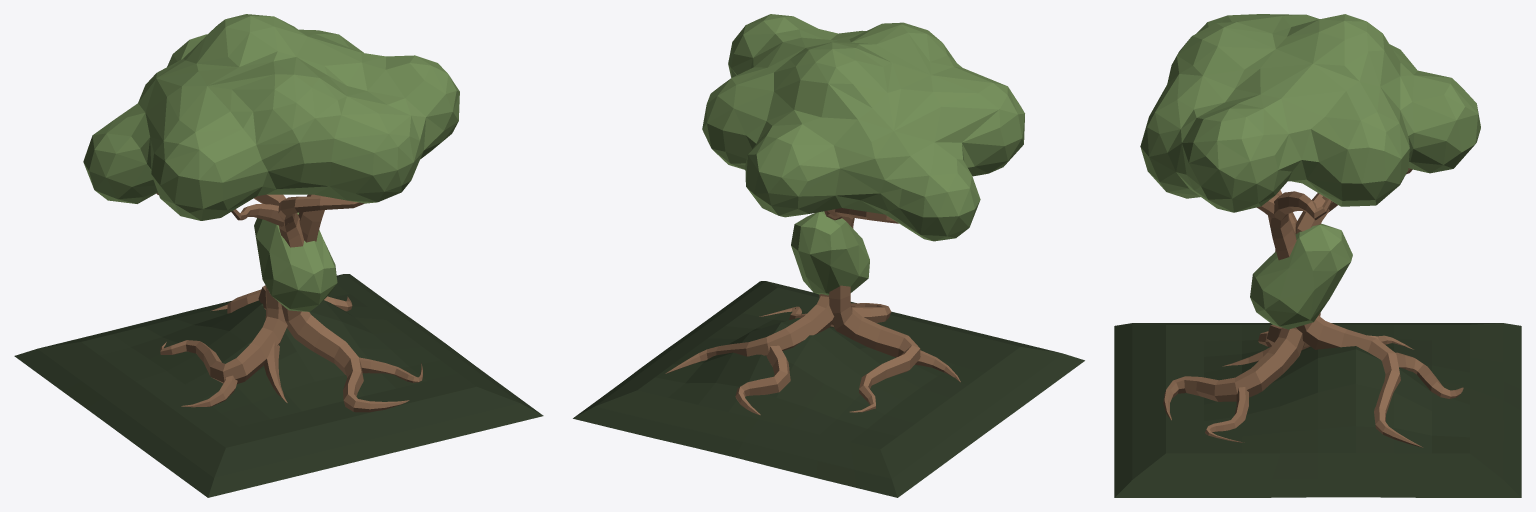
Rendered from leafy_tree.fbx.
3 renders of one model, left to right at view 1: azimuth 30°, elevation 25°; view 2: azimuth 150°, elevation 25°; view 3: azimuth 270°, elevation 25°, orthographic. The views are drawn at different scales.
Parts seen in each view (by area): view 1: Mball.014, Plane, NurbsPath.002, NurbsPath.001, NurbsPath; view 2: Mball.014, Plane, NurbsPath.001, NurbsPath, NurbsPath.002; view 3: Plane, Mball.014, NurbsPath, NurbsPath.002, NurbsPath.001.
Part boxes in pixels (left/top/right/bottom): Mball.014: left=83, top=14, right=459, bottom=311; Plane: left=14, top=274, right=543, bottom=497; NurbsPath.002: left=231, top=196, right=422, bottom=412; NurbsPath.001: left=156, top=193, right=287, bottom=407; NurbsPath: left=211, top=194, right=352, bottom=313; Mball.014: left=702, top=14, right=1024, bottom=295; Plane: left=573, top=281, right=1084, bottom=497; NurbsPath.001: left=824, top=208, right=960, bottom=412; NurbsPath: left=665, top=294, right=834, bottom=415; NurbsPath.002: left=759, top=216, right=891, bottom=326; Plane: left=1114, top=323, right=1521, bottom=497; Mball.014: left=1140, top=14, right=1480, bottom=329; NurbsPath: left=1257, top=191, right=1463, bottom=447; NurbsPath.002: left=1163, top=190, right=1304, bottom=442; NurbsPath.001: left=1222, top=168, right=1413, bottom=366.
Bounding box in the file's own units: 703 × 723 × 697.
